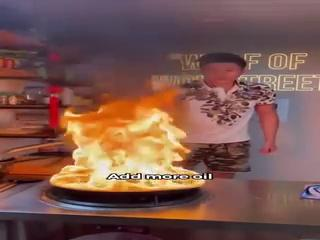Fire: (47, 68, 205, 193)
